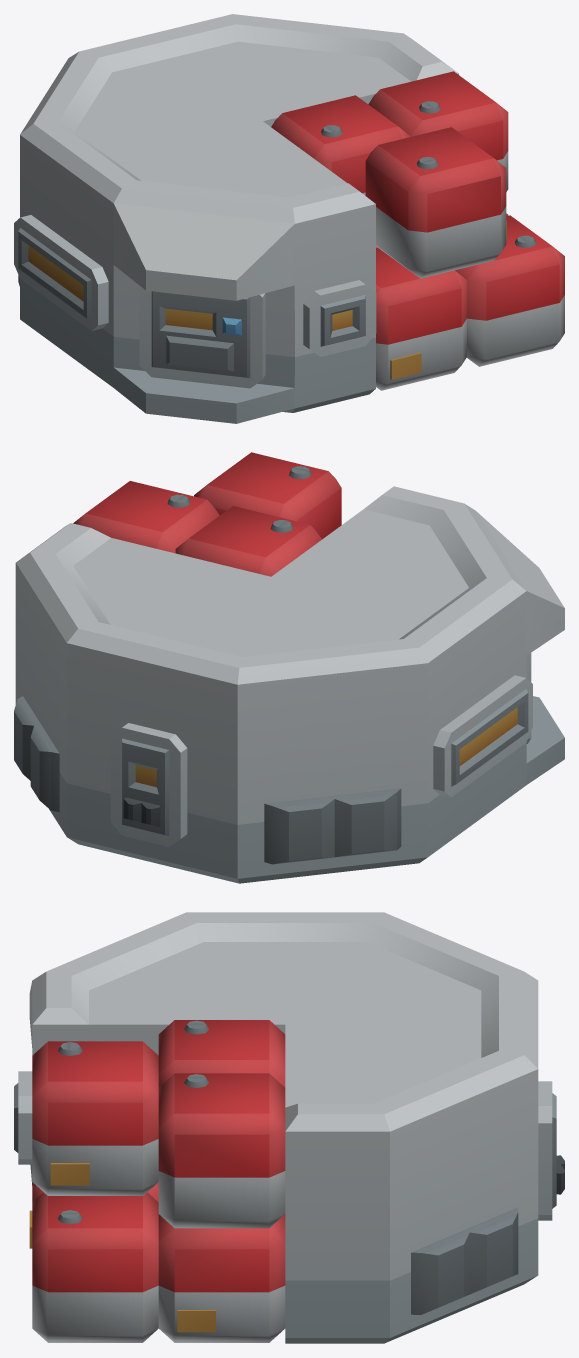
The model's file is space-cargodepot-b.glb.
The picture shows the model from 3 angles, top to bottom: view 1: azimuth 30°, elevation 25°; view 2: azimuth 150°, elevation 25°; view 3: azimuth 270°, elevation 25°; orthographic projection. The views are drawn at different scales.
Visible parts, largest first — view 1: cargodepot_B; view 2: cargodepot_B; view 3: cargodepot_B.
Boxes of the visible parts, <box> form: cargodepot_B: <box>14,14,564,423</box>; cargodepot_B: <box>14,452,564,883</box>; cargodepot_B: <box>14,912,564,1343</box>.
Size of the model in its own units: 2.08 by 1.02 by 2.18.
